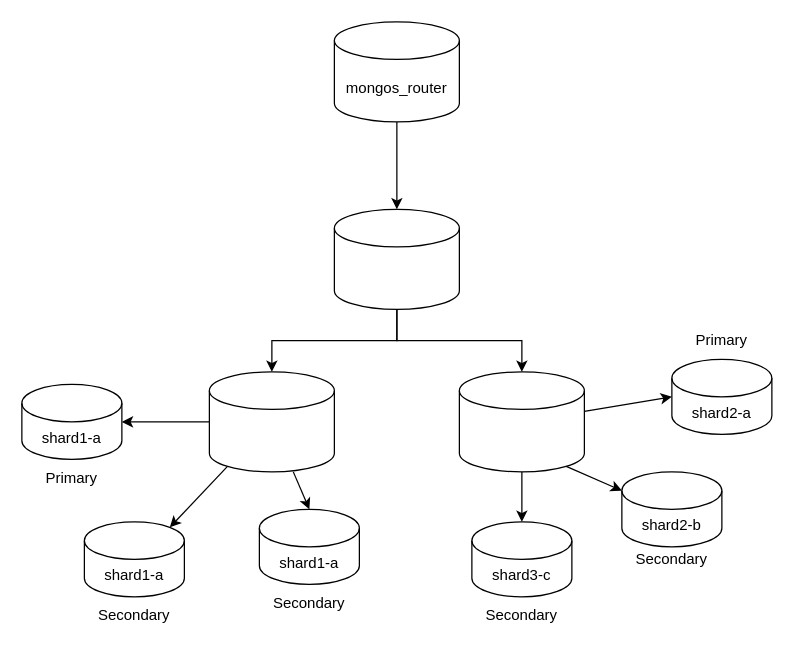
The diagram is 794 pixels wide and 656 high, and some of its shapes have lost their labels. The shapes that lost their labels are listed below. From the top down, each one's box as (x1, y1, x2, y2) in pixels, then its label:
(333, 208, 459, 309): configSrv
(208, 371, 334, 472): shard1
(458, 371, 584, 472): shard2
